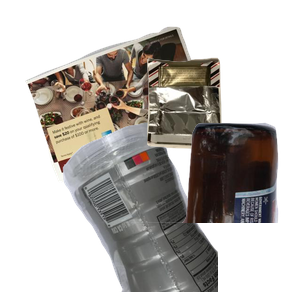glass: (87, 120, 300, 300)
paper: (23, 24, 232, 199)
plastic: (60, 120, 300, 300)
trash: (144, 55, 300, 197)
